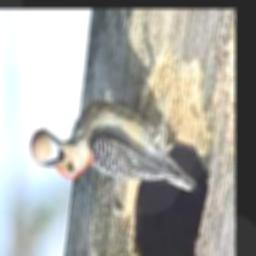Woodpecker: (37, 100, 196, 193)
